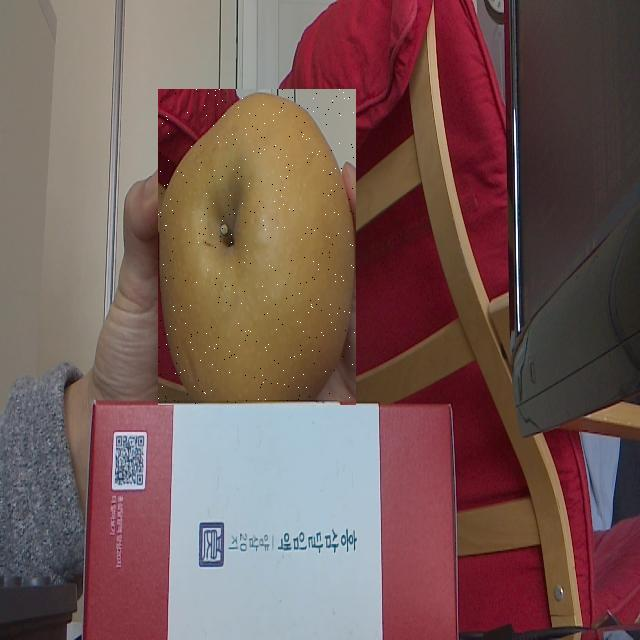pear: (158, 89, 356, 405)
